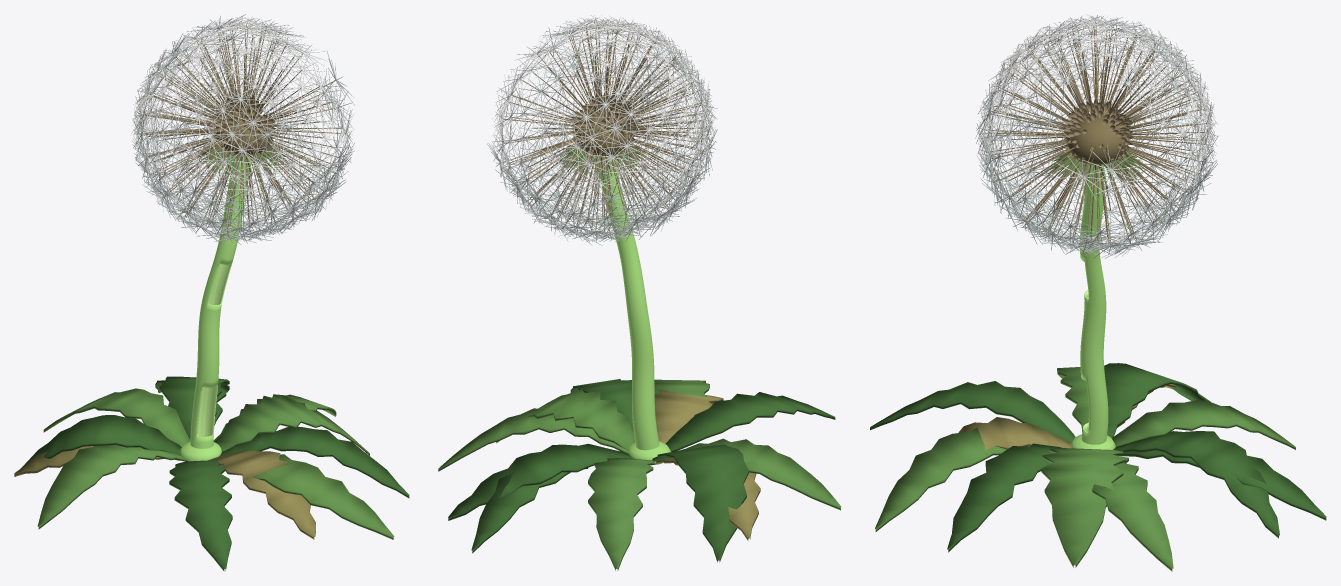
The model's file is giant_dandelion_shootable.glb.
3 renders of one model, left to right at view 1: azimuth 30°, elevation 25°; view 2: azimuth 150°, elevation 25°; view 3: azimuth 270°, elevation 25°, orthographic. The views are drawn at different scales.
Visible parts, largest first — view 1: RosetteLeaves_SHOOTABLE, Scape_SHOOTABLE, SeedHeadCore_SHOOTABLE; view 2: RosetteLeaves_SHOOTABLE, Scape_SHOOTABLE, SeedHeadCore_SHOOTABLE; view 3: RosetteLeaves_SHOOTABLE, Scape_SHOOTABLE, SeedHeadCore_SHOOTABLE.
Part boxes in pixels (x1,y1,x2,y2): RosetteLeaves_SHOOTABLE: [14, 376, 409, 571]; Scape_SHOOTABLE: [180, 157, 251, 461]; SeedHeadCore_SHOOTABLE: [201, 110, 285, 175]; RosetteLeaves_SHOOTABLE: [438, 379, 841, 570]; Scape_SHOOTABLE: [600, 160, 670, 465]; SeedHeadCore_SHOOTABLE: [560, 110, 645, 176]; RosetteLeaves_SHOOTABLE: [870, 363, 1326, 571]; Scape_SHOOTABLE: [1071, 167, 1115, 449]; SeedHeadCore_SHOOTABLE: [1051, 115, 1142, 185].
Size of the model in its own units: 8.7 by 10.75 by 9.21.
